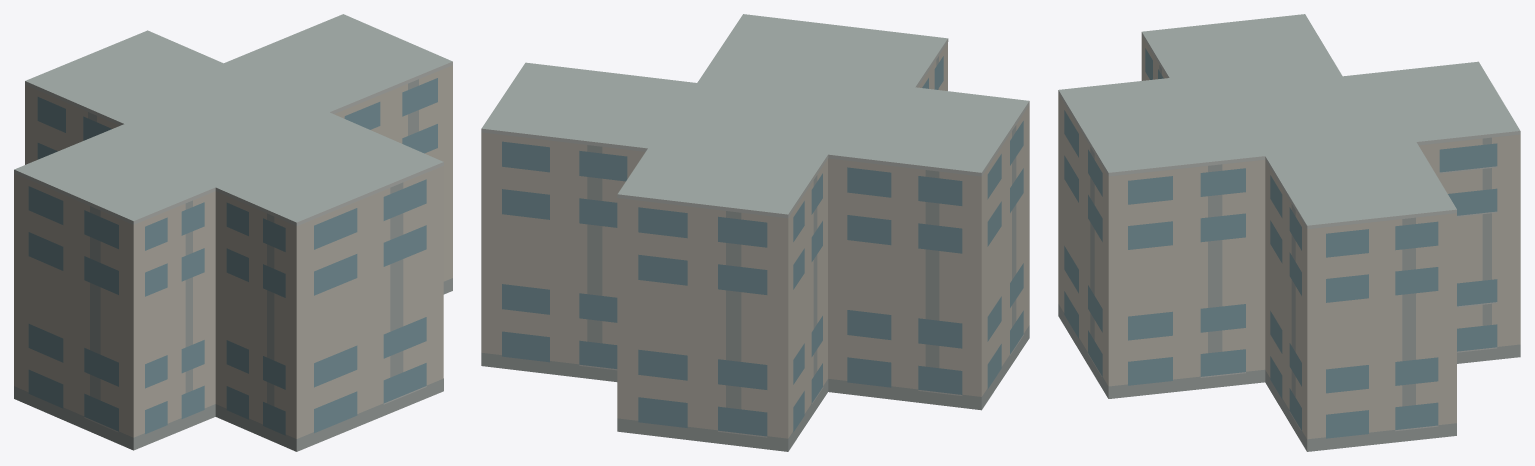
File: residential-550af7b4-4e8c-4c29-825f-9652c3a20d2d.glb
The picture shows the model from 3 angles, left to right: view 1: azimuth 30°, elevation 25°; view 2: azimuth 150°, elevation 25°; view 3: azimuth 270°, elevation 25°; orthographic projection. The views are drawn at different scales.
Parts seen in each view (by area): view 1: residential-550af7b4-4e8c-4c29-825f-9652c3a20d2d.tmp; view 2: residential-550af7b4-4e8c-4c29-825f-9652c3a20d2d.tmp; view 3: residential-550af7b4-4e8c-4c29-825f-9652c3a20d2d.tmp.
Part boxes in pixels (x1,y1,x2,y2): residential-550af7b4-4e8c-4c29-825f-9652c3a20d2d.tmp: (14,14,452,451); residential-550af7b4-4e8c-4c29-825f-9652c3a20d2d.tmp: (481,14,1029,451); residential-550af7b4-4e8c-4c29-825f-9652c3a20d2d.tmp: (1058,14,1520,451).
Bounding box in the file's own units: 30.62 × 15.25 × 28.24.
